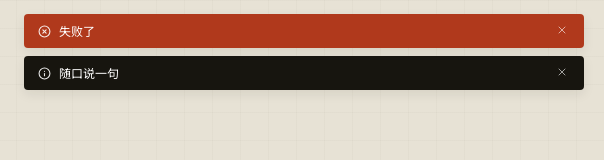
Toaster › 可以手动关掉：关闭按钮只关自己那一条
This screenshot has width=604, height=160.
Click the button named "关闭提示" in the row of "失败了" at (562, 30), box [554,22,570,38]
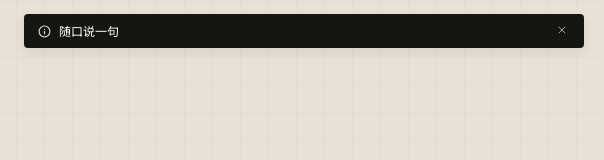
Check: the text "随口说一句" is shown, box [58,21,119,39]
Check: the text "失败了" is gone
